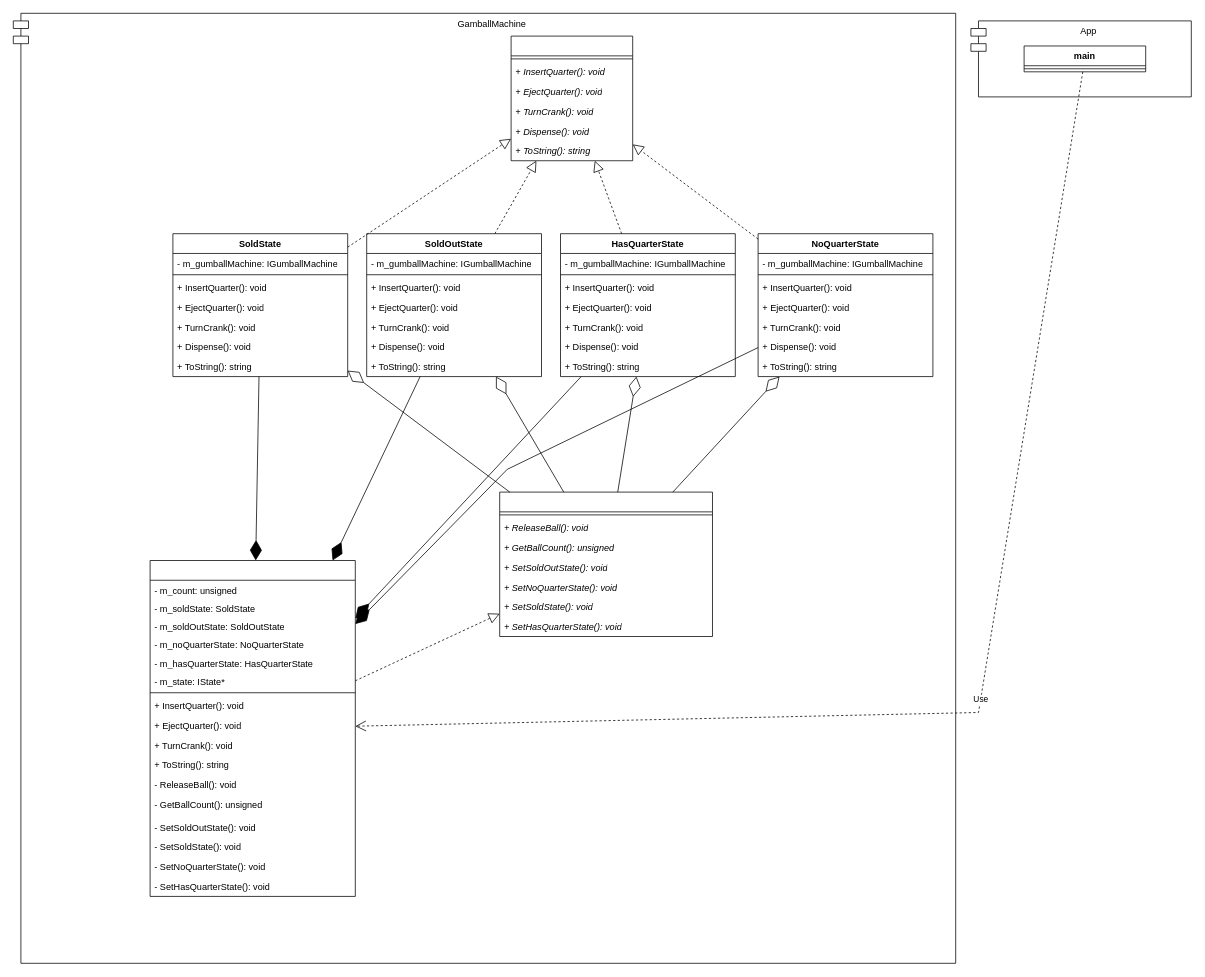
Some shapes in this 1205 by 977 pixel diagram are drawn without their labels. The shapes that lost their labels are listed below. From the top down, each one's box as (x1, y1, x2, y2) in pixels, then its label:
(510, 35, 633, 161): <<interface>> IState
(499, 491, 712, 636): <<interface>> IGamballMachine
(149, 560, 355, 896): GumballMachine
